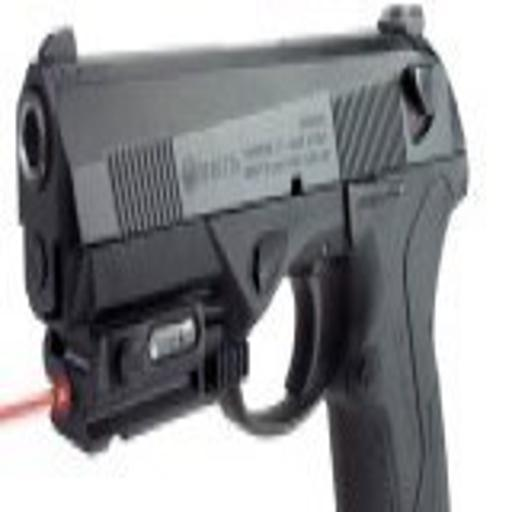Handgun: (11, 7, 472, 511)
